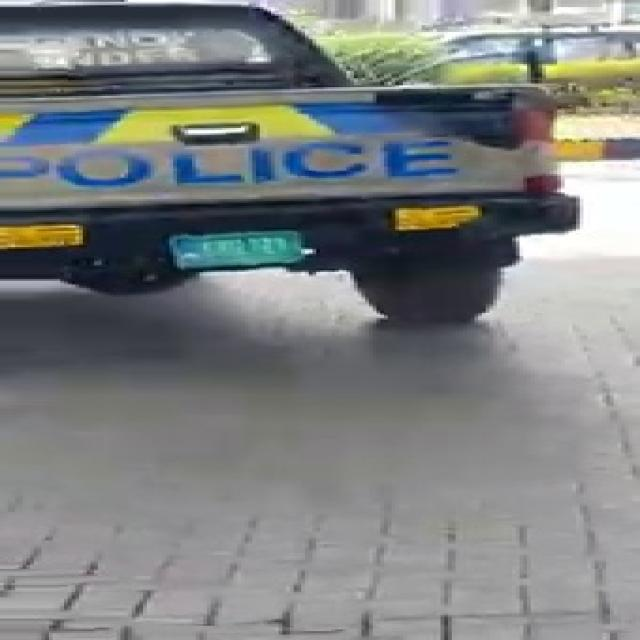police: (0, 0, 610, 261)
